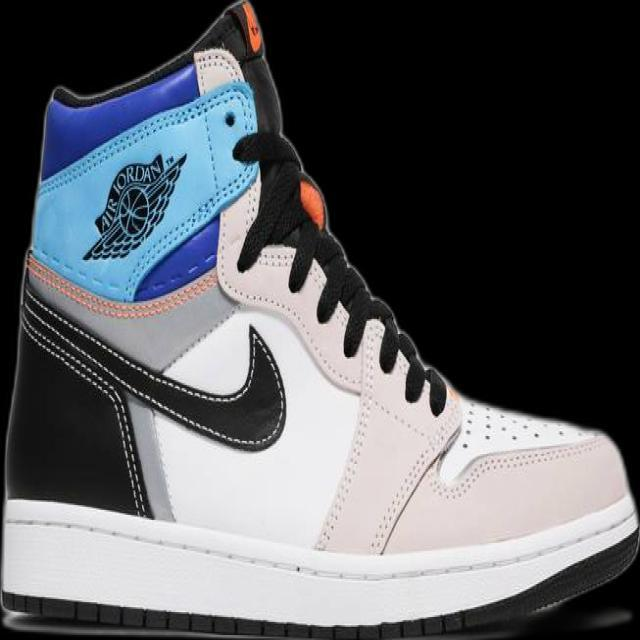J1_InsoleChar: (0, 0, 638, 638)
J1_ShoeLogo: (29, 65, 262, 309), (81, 150, 187, 261)
J1_StitchPattern: (14, 250, 603, 557), (190, 44, 462, 555), (234, 165, 452, 416), (17, 281, 287, 451), (367, 397, 599, 555), (313, 315, 454, 554), (17, 283, 156, 519), (1, 590, 462, 639), (431, 399, 603, 500), (22, 249, 219, 321), (368, 423, 461, 555), (470, 403, 544, 445), (190, 45, 246, 96)
